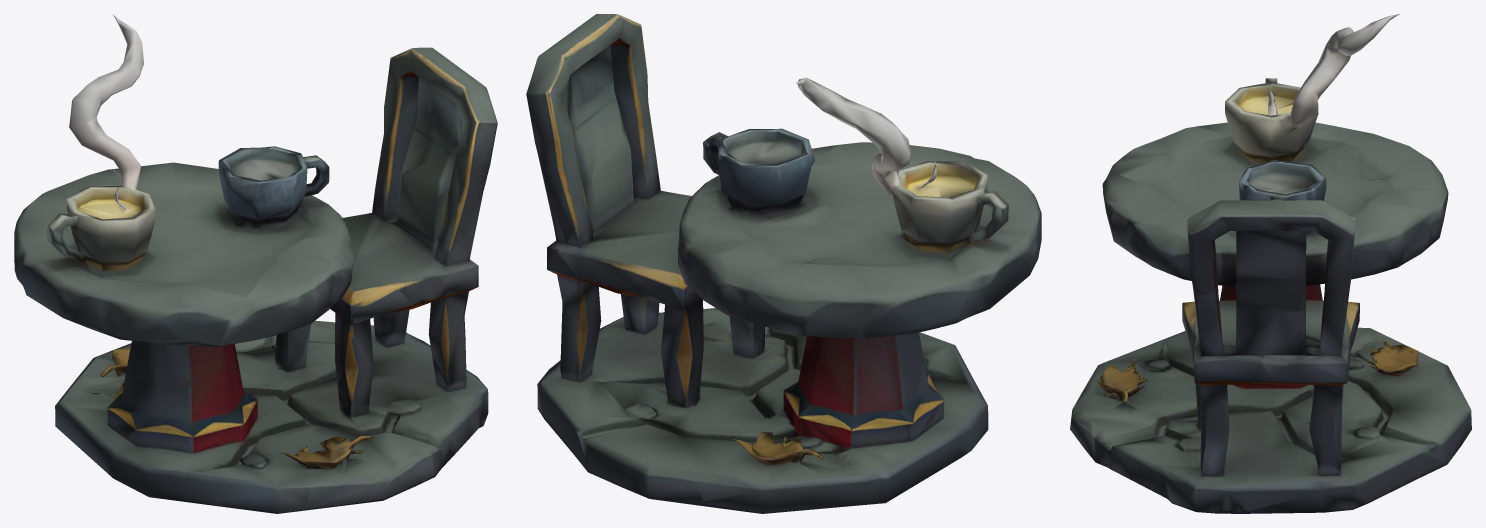
The model's file is ss_guasu.glb.
3 renders of one model, left to right at view 1: azimuth 30°, elevation 25°; view 2: azimuth 150°, elevation 25°; view 3: azimuth 270°, elevation 25°, orthographic. The views are drawn at different scales.
Parts seen in each view (by area): view 1: tripo_node_431e04e4-edad-402b-8739-a6ea2f260122; view 2: tripo_node_431e04e4-edad-402b-8739-a6ea2f260122; view 3: tripo_node_431e04e4-edad-402b-8739-a6ea2f260122.
Boxes of the visible parts, x1,y1,x2,y2 form: tripo_node_431e04e4-edad-402b-8739-a6ea2f260122: [14, 14, 497, 513]; tripo_node_431e04e4-edad-402b-8739-a6ea2f260122: [526, 14, 1041, 513]; tripo_node_431e04e4-edad-402b-8739-a6ea2f260122: [1070, 14, 1471, 513].
Size of the model in its own units: 0.9974 by 0.8796 by 0.8618.
1 material, 1 textured.
